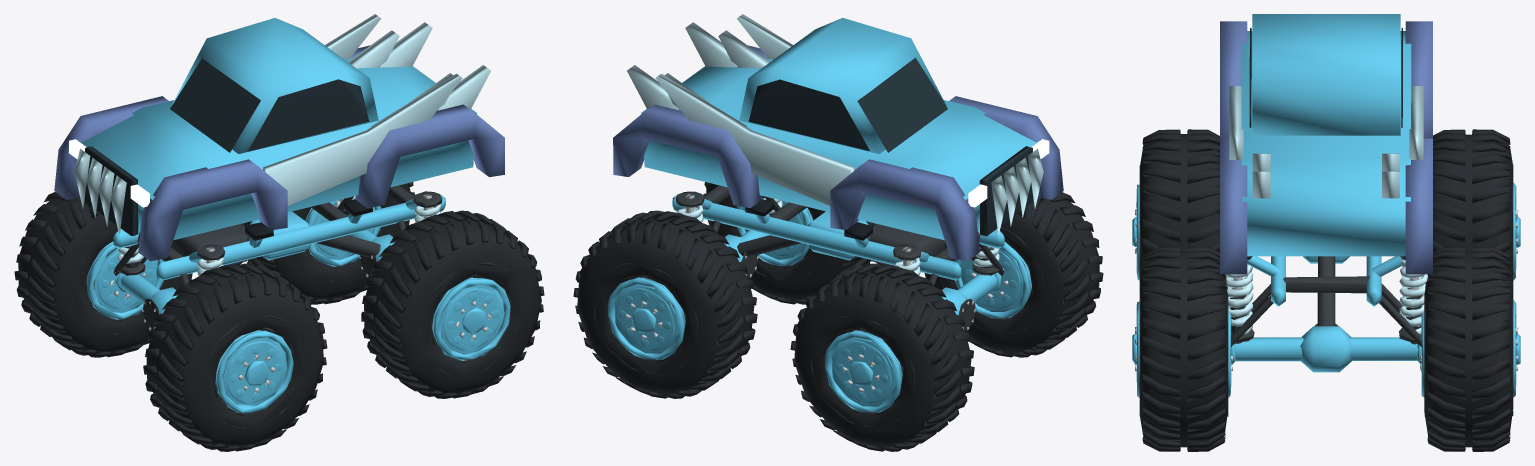
The model's file is IceFreeze_LOD1.fbx.
The picture shows the model from 3 angles, left to right: view 1: azimuth 30°, elevation 25°; view 2: azimuth 150°, elevation 25°; view 3: azimuth 270°, elevation 25°; orthographic projection. The views are drawn at different scales.
Visible parts, largest first — view 1: IceFreeze_LOD1_sprung_body_Geometry, IceFreeze_LOD1_FL_Spin_Geometry, IceFreeze_LOD1_RL_Spin_Geometry, IceFreeze_LOD1_FR_Spin_Geometry, IceFreeze_LOD1_RR_Spin_Geometry, IceFreeze_LOD1_FRONT_axle_Geometry, IceFreeze_LOD1_Root_Geometry, IceFreeze_LOD1_REAR_axle_Geometry, IceFreeze_LOD1_REAR_shock_-1_Geometry, IceFreeze_LOD1_FRONT_shock_-1_Geometry; view 2: IceFreeze_LOD1_sprung_body_Geometry, IceFreeze_LOD1_FR_Spin_Geometry, IceFreeze_LOD1_RR_Spin_Geometry, IceFreeze_LOD1_FL_Spin_Geometry, IceFreeze_LOD1_RL_Spin_Geometry, IceFreeze_LOD1_FRONT_axle_Geometry, IceFreeze_LOD1_Root_Geometry, IceFreeze_LOD1_REAR_axle_Geometry, IceFreeze_LOD1_FRONT_shock_1_Geometry, IceFreeze_LOD1_REAR_shock_1_Geometry; view 3: IceFreeze_LOD1_sprung_body_Geometry, IceFreeze_LOD1_RR_Spin_Geometry, IceFreeze_LOD1_RL_Spin_Geometry, IceFreeze_LOD1_FR_Spin_Geometry, IceFreeze_LOD1_FL_Spin_Geometry, IceFreeze_LOD1_REAR_axle_Geometry, IceFreeze_LOD1_Root_Geometry, IceFreeze_LOD1_REAR_shock_-1_Geometry, IceFreeze_LOD1_REAR_shock_1_Geometry.
Part boxes in pixels (box(x1,y1,x2,y2)): IceFreeze_LOD1_sprung_body_Geometry: box(54, 14, 504, 280); IceFreeze_LOD1_FL_Spin_Geometry: box(143, 263, 327, 451); IceFreeze_LOD1_RL_Spin_Geometry: box(361, 210, 544, 398); IceFreeze_LOD1_FR_Spin_Geometry: box(14, 192, 192, 357); IceFreeze_LOD1_RR_Spin_Geometry: box(241, 182, 414, 304); IceFreeze_LOD1_FRONT_axle_Geometry: box(120, 274, 177, 330); IceFreeze_LOD1_Root_Geometry: box(113, 196, 407, 285); IceFreeze_LOD1_REAR_axle_Geometry: box(348, 230, 394, 277); IceFreeze_LOD1_REAR_shock_-1_Geometry: box(413, 191, 442, 222); IceFreeze_LOD1_FRONT_shock_-1_Geometry: box(197, 244, 225, 275); IceFreeze_LOD1_sprung_body_Geometry: box(613, 14, 1063, 280); IceFreeze_LOD1_FR_Spin_Geometry: box(790, 263, 974, 451); IceFreeze_LOD1_RR_Spin_Geometry: box(573, 210, 757, 398); IceFreeze_LOD1_FL_Spin_Geometry: box(924, 192, 1103, 357); IceFreeze_LOD1_RL_Spin_Geometry: box(703, 182, 876, 304); IceFreeze_LOD1_FRONT_axle_Geometry: box(941, 274, 997, 331); IceFreeze_LOD1_Root_Geometry: box(696, 196, 1004, 286); IceFreeze_LOD1_REAR_axle_Geometry: box(724, 230, 769, 278); IceFreeze_LOD1_FRONT_shock_1_Geometry: box(893, 244, 921, 275); IceFreeze_LOD1_REAR_shock_1_Geometry: box(676, 191, 704, 222); IceFreeze_LOD1_sprung_body_Geometry: box(1220, 14, 1432, 306); IceFreeze_LOD1_RR_Spin_Geometry: box(1417, 246, 1520, 451); IceFreeze_LOD1_RL_Spin_Geometry: box(1132, 246, 1235, 451); IceFreeze_LOD1_FR_Spin_Geometry: box(1433, 129, 1520, 281); IceFreeze_LOD1_FL_Spin_Geometry: box(1132, 129, 1219, 280); IceFreeze_LOD1_REAR_axle_Geometry: box(1235, 323, 1418, 372); IceFreeze_LOD1_Root_Geometry: box(1231, 256, 1421, 346); IceFreeze_LOD1_REAR_shock_-1_Geometry: box(1225, 256, 1254, 342); IceFreeze_LOD1_REAR_shock_1_Geometry: box(1399, 256, 1427, 342).
Size of the model in its own units: 516 by 415 by 414.
